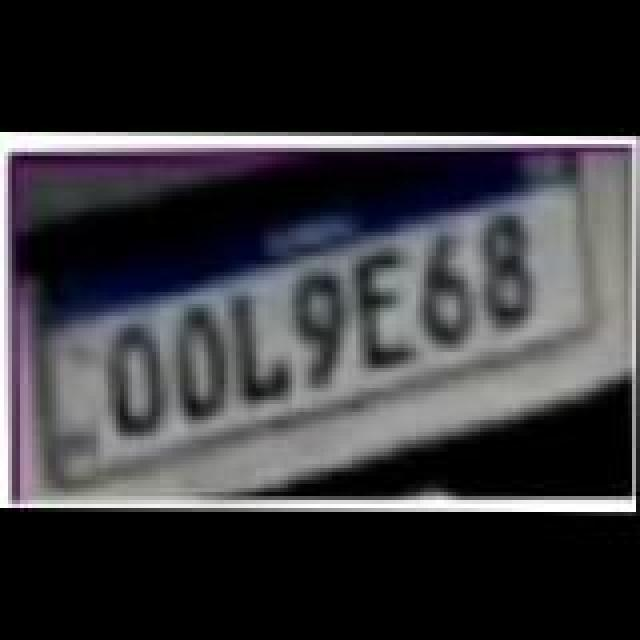6: (408, 230, 492, 350)
8: (468, 210, 552, 330)
9: (280, 270, 364, 390)
E: (342, 248, 430, 372)
L: (220, 292, 304, 408)
O: (94, 322, 182, 438), (160, 306, 244, 426)
